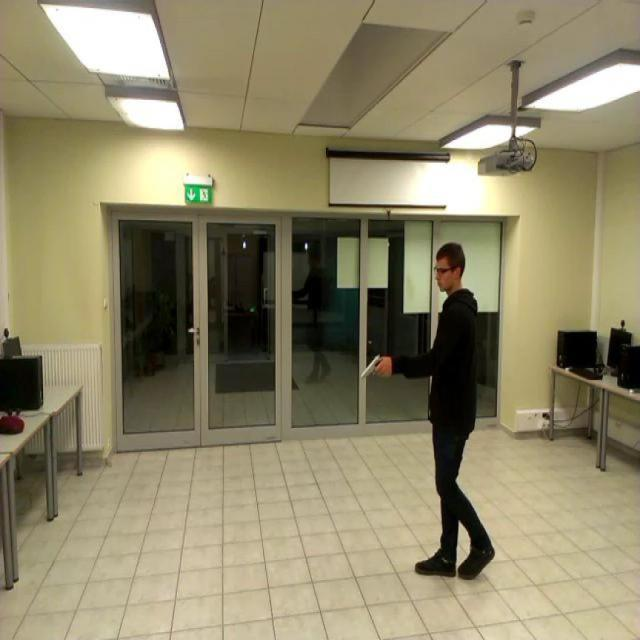pistol: (361, 352, 384, 379)
